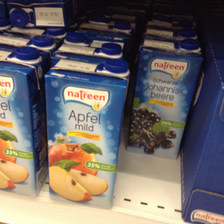juice: (44, 58, 131, 209), (125, 34, 203, 160), (1, 47, 46, 199)
